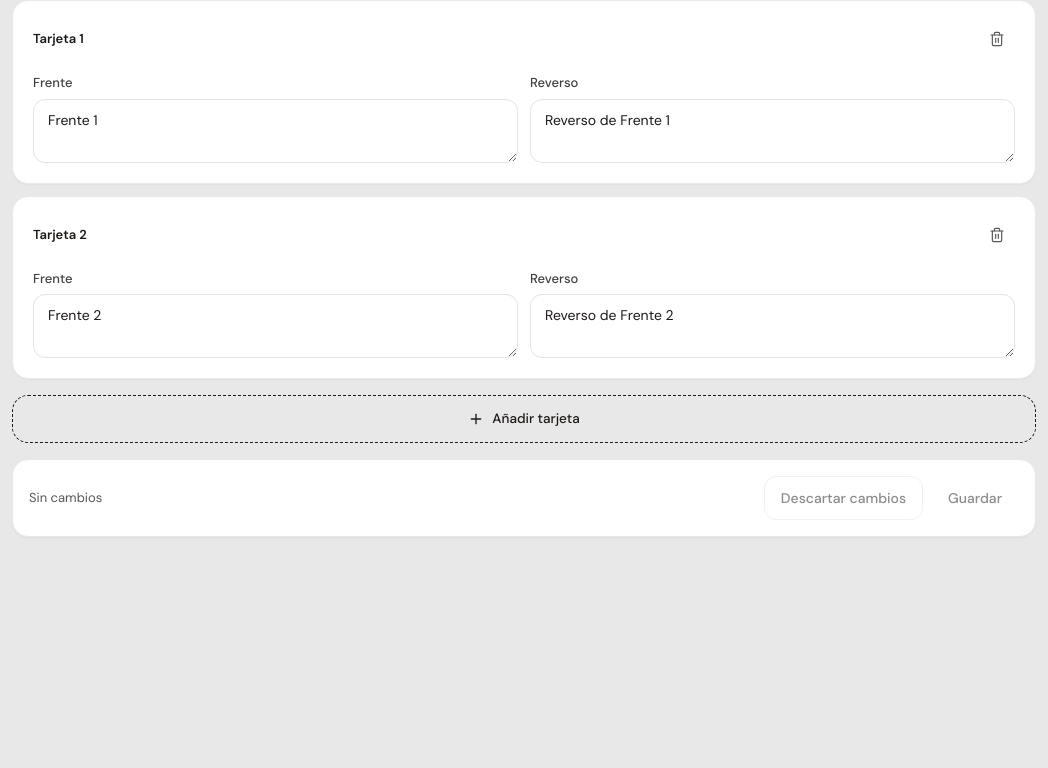
DeckEditor › saves an edit with the card's loaded version
This screenshot has width=1048, height=768.
Replace the text in the text box labelled "Frente" below "Tarjeta 1" with "Nuevo" at (276,130), box x1=33 y1=98 x2=518 y2=162
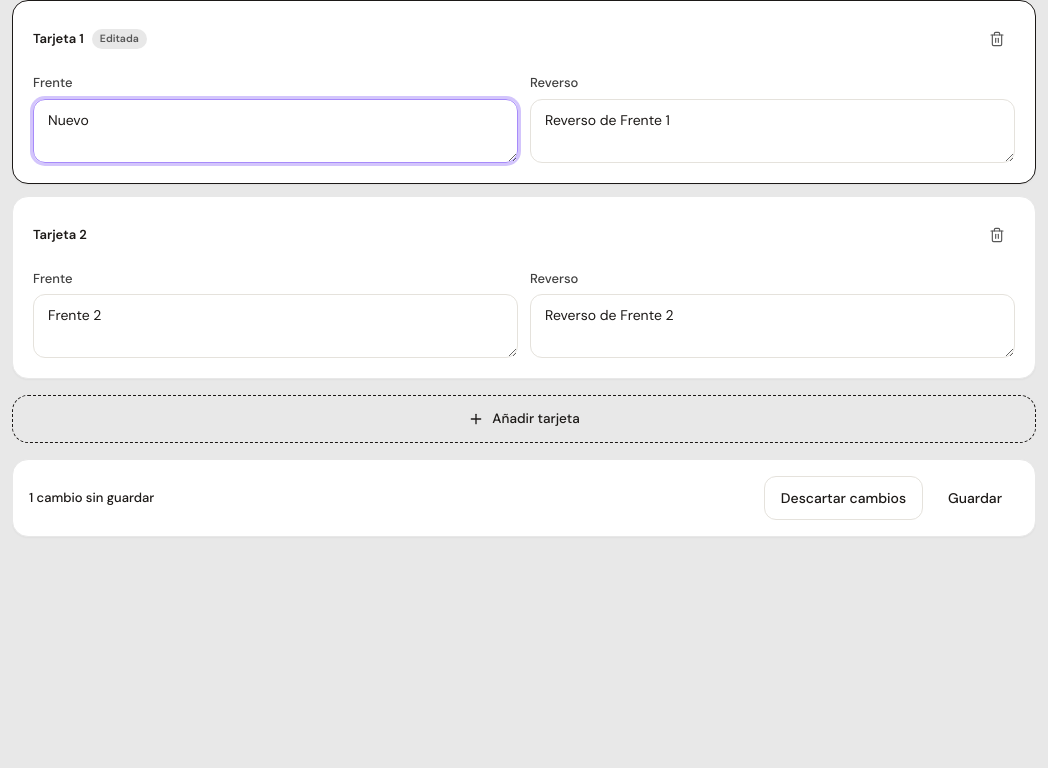
Click the button "Guardar" at (975,498), box x1=931 y1=476 x2=1019 y2=520
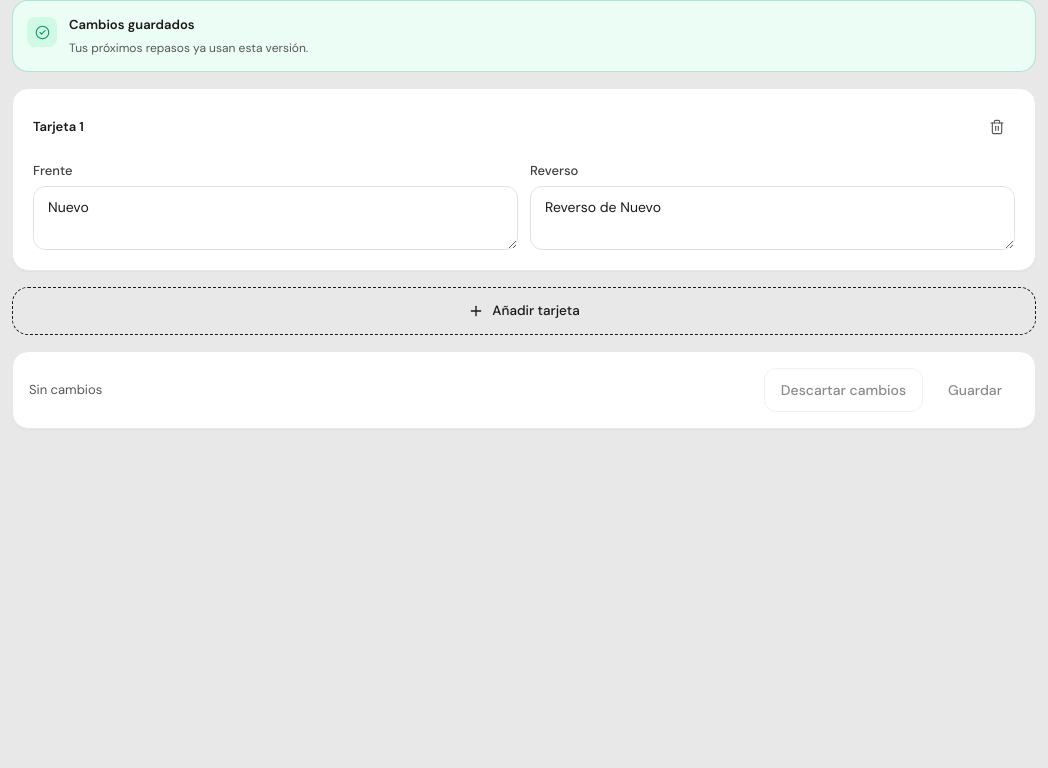
Expected: the text "Cambios guardados" is shown, x1=69 y1=16 x2=194 y2=33
